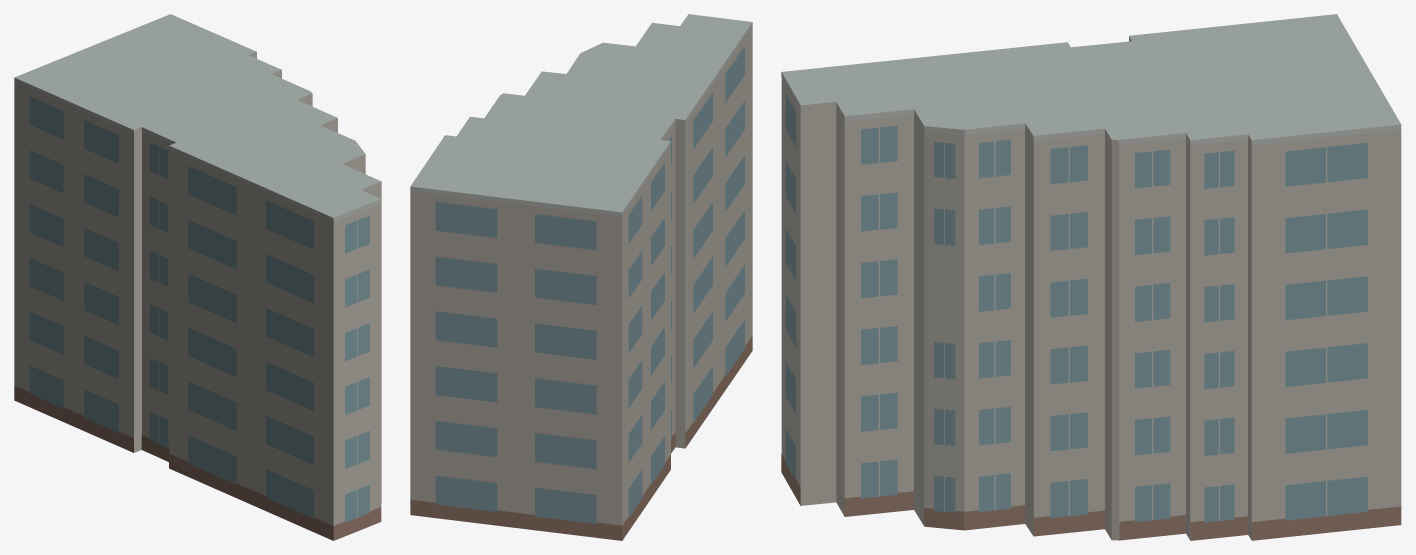
File: survey-upis-33030322.glb
3 renders of one model, left to right at view 1: azimuth 30°, elevation 25°; view 2: azimuth 150°, elevation 25°; view 3: azimuth 270°, elevation 25°, orthographic. The views are drawn at different scales.
Parts seen in each view (by area): view 1: survey-upis-33030322.tmp; view 2: survey-upis-33030322.tmp; view 3: survey-upis-33030322.tmp.
Boxes of the visible parts, box(x1,y1,x2,y2) form: survey-upis-33030322.tmp: box(14, 14, 381, 540); survey-upis-33030322.tmp: box(410, 14, 752, 540); survey-upis-33030322.tmp: box(781, 14, 1401, 540).
Bounding box in the file's own units: 12.59 × 18.6 × 26.09.
